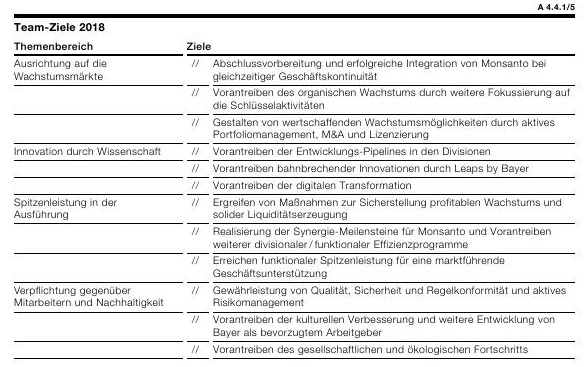table: (0, 0, 584, 367)
